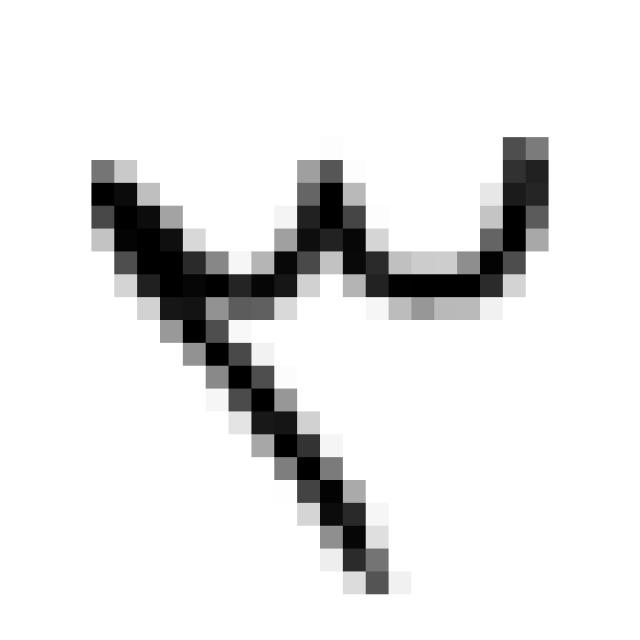3 -three-: (69, 114, 575, 613)
